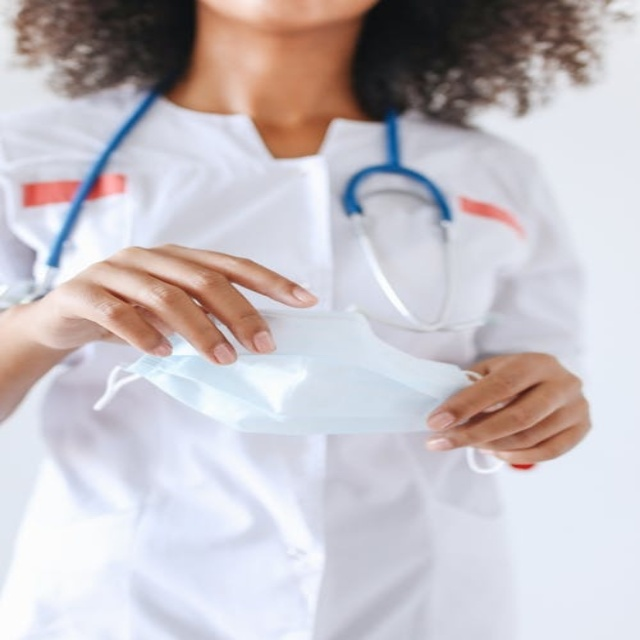Sin_guantes: (24, 239, 313, 364), (421, 349, 591, 470)
